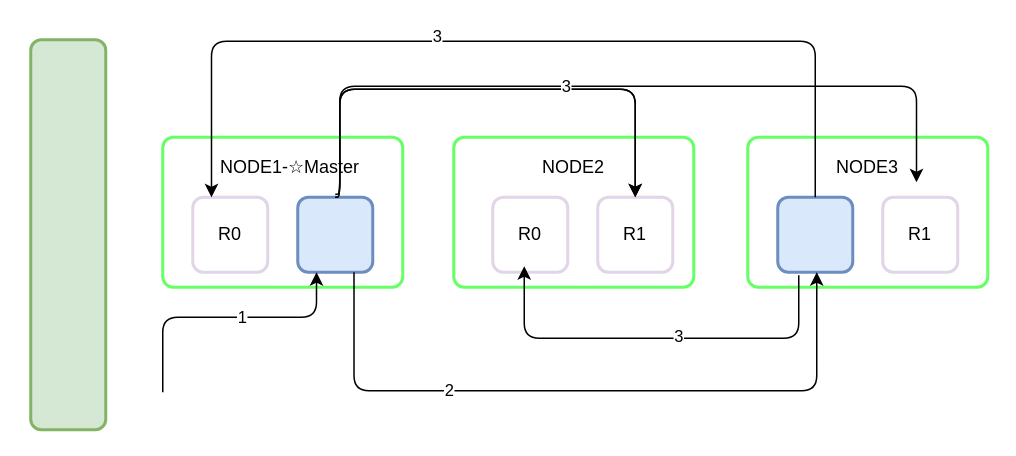
The diagram is 1016 pixels wide and 456 high, and some of its shapes have lost their labels. Here are the shapes that lost their labels. From the top down, the centre of each, then its label:
At (x=67, y=234): "Cluster".
At (x=335, y=234): "P1".
At (x=815, y=234): "P0".
